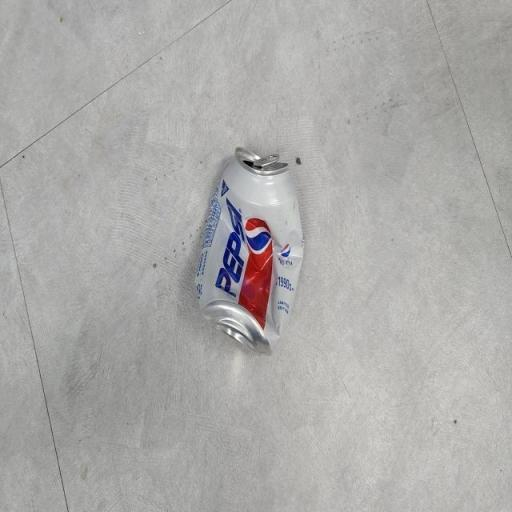metal: (180, 111, 328, 424)
